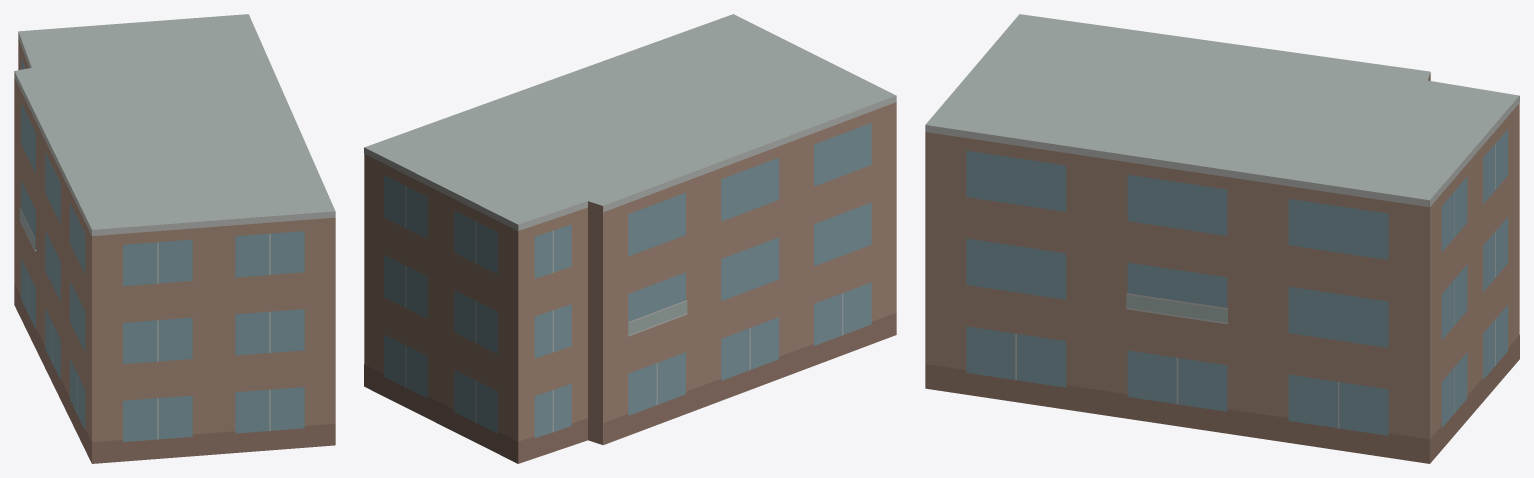
The model's file is survey-upis-32913231.glb.
The picture shows the model from 3 angles, left to right: view 1: azimuth 30°, elevation 25°; view 2: azimuth 150°, elevation 25°; view 3: azimuth 270°, elevation 25°; orthographic projection. The views are drawn at different scales.
Parts seen in each view (by area): view 1: survey-upis-32913231.tmp; view 2: survey-upis-32913231.tmp; view 3: survey-upis-32913231.tmp.
Part boxes in pixels (left/top/right/bottom): survey-upis-32913231.tmp: left=14, top=14, right=335, bottom=463; survey-upis-32913231.tmp: left=364, top=14, right=896, bottom=463; survey-upis-32913231.tmp: left=925, top=14, right=1519, bottom=463.
Bounding box in the file's own units: 13.88 × 9.15 × 18.71.
